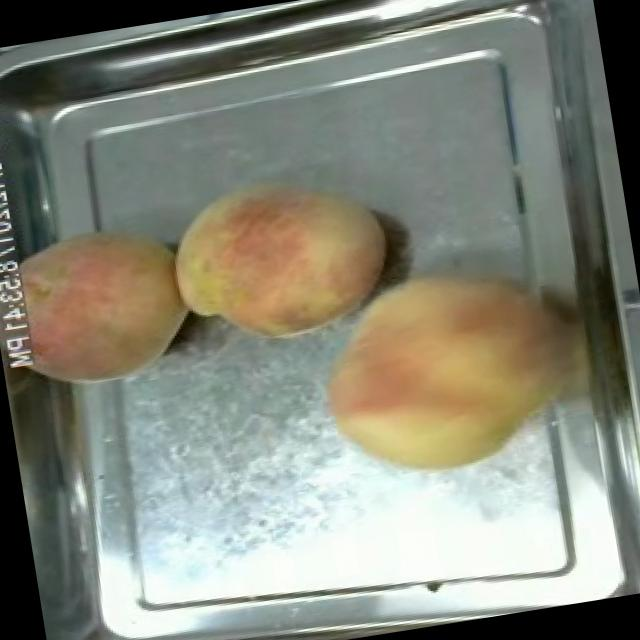Fruit: (298, 243, 574, 500), (156, 157, 404, 364), (0, 209, 202, 404)
